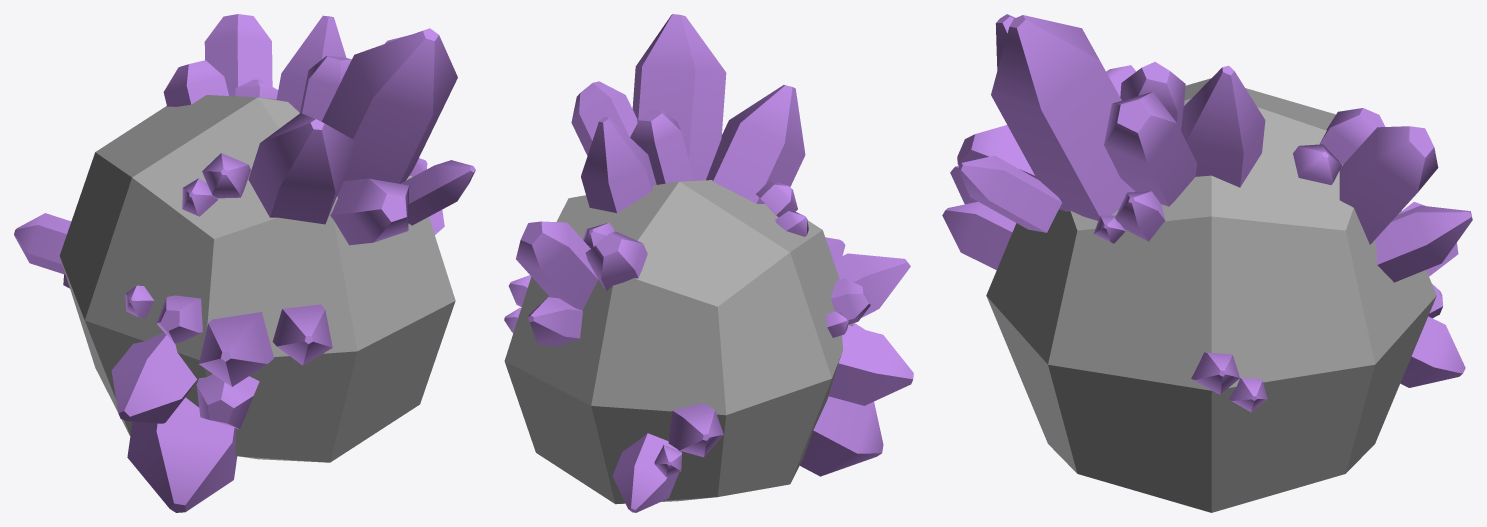
Rendered from crystal_stone01.fbx.
3 views of the same model, side by side, from view 1: azimuth 30°, elevation 25°; view 2: azimuth 150°, elevation 25°; view 3: azimuth 270°, elevation 25° (orthographic). The views are drawn at different scales.
Visible parts, largest first — view 1: Cube2, pCube36, pCube44, pCube42, pCube46, pCube43, pCube45, pCube53, pCube35, pCube50, pCube33, pCube41 (+8 smaller); view 2: Cube2, pCube36, pCube44, pCube53, pCube33, pCube42, pCube46, pCube60, pCube37, pCube34, pCube45, pCube52 (+8 smaller); view 3: Cube2, pCube36, pCube53, pCube34, pCube33, pCube57, pCube35, pCube50, pCube60, pCube37, pCube52, pCube43 (+5 smaller).
Part boxes in pixels (x1,y1,x2,y2): Cube2: (59,95,455,462); pCube36: (321,28,457,183); pCube44: (248,113,356,224); pCube42: (127,397,237,512); pCube46: (111,332,196,423); pCube43: (330,178,409,245); pCube45: (199,312,273,386); pCube53: (204,14,272,96); pCube35: (400,160,475,225); pCube50: (272,304,332,365); pCube33: (276,15,346,112); pCube41: (196,374,259,429); Cube2: (504,180,853,504); pCube36: (632,14,726,180); pCube44: (706,85,805,203); pCube53: (516,221,598,310); pCube33: (581,117,656,212); pCube42: (800,396,883,476); pCube46: (828,325,913,405); pCube60: (612,433,679,512); pCube37: (630,109,694,184); pCube34: (571,81,637,155); pCube45: (833,253,910,317); pCube52: (585,231,647,291); Cube2: (986,78,1436,512); pCube36: (991,15,1135,220); pCube53: (1339,126,1438,244); pCube34: (1104,91,1197,206); pCube33: (1181,65,1265,187); pCube57: (1375,205,1472,282); pCube35: (958,155,1061,232); pCube50: (942,201,1016,270); pCube60: (1400,316,1465,387); pCube37: (1120,62,1185,130); pCube52: (1319,108,1385,164); pCube43: (957,125,1036,178).
Bounding box in the file's own units: 3.09 × 3.56 × 3.23.
